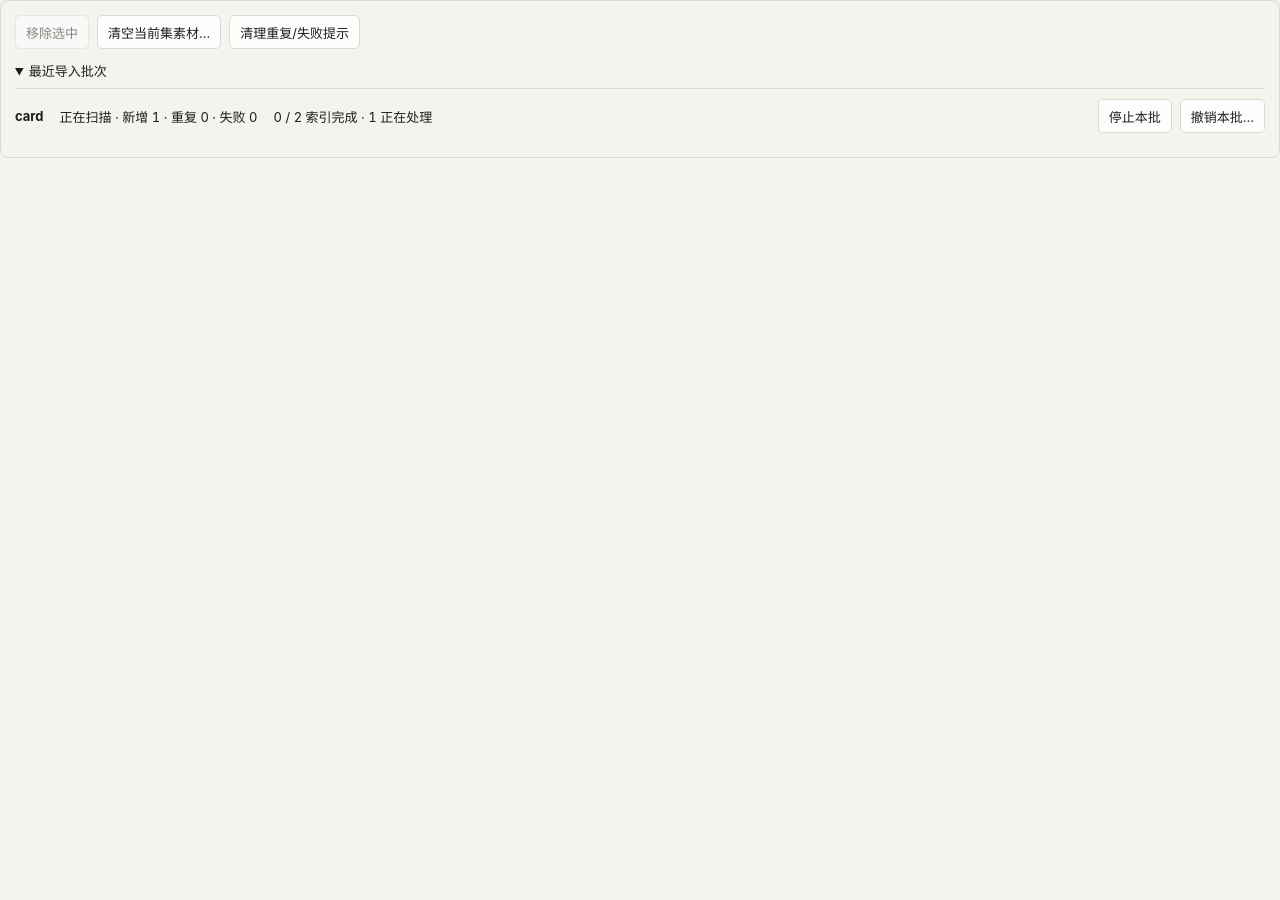
Test case: undo targets only its batch and completes with actual removed count
Click the button "撤销本批…": [1222, 116] box [1180,99,1265,133]
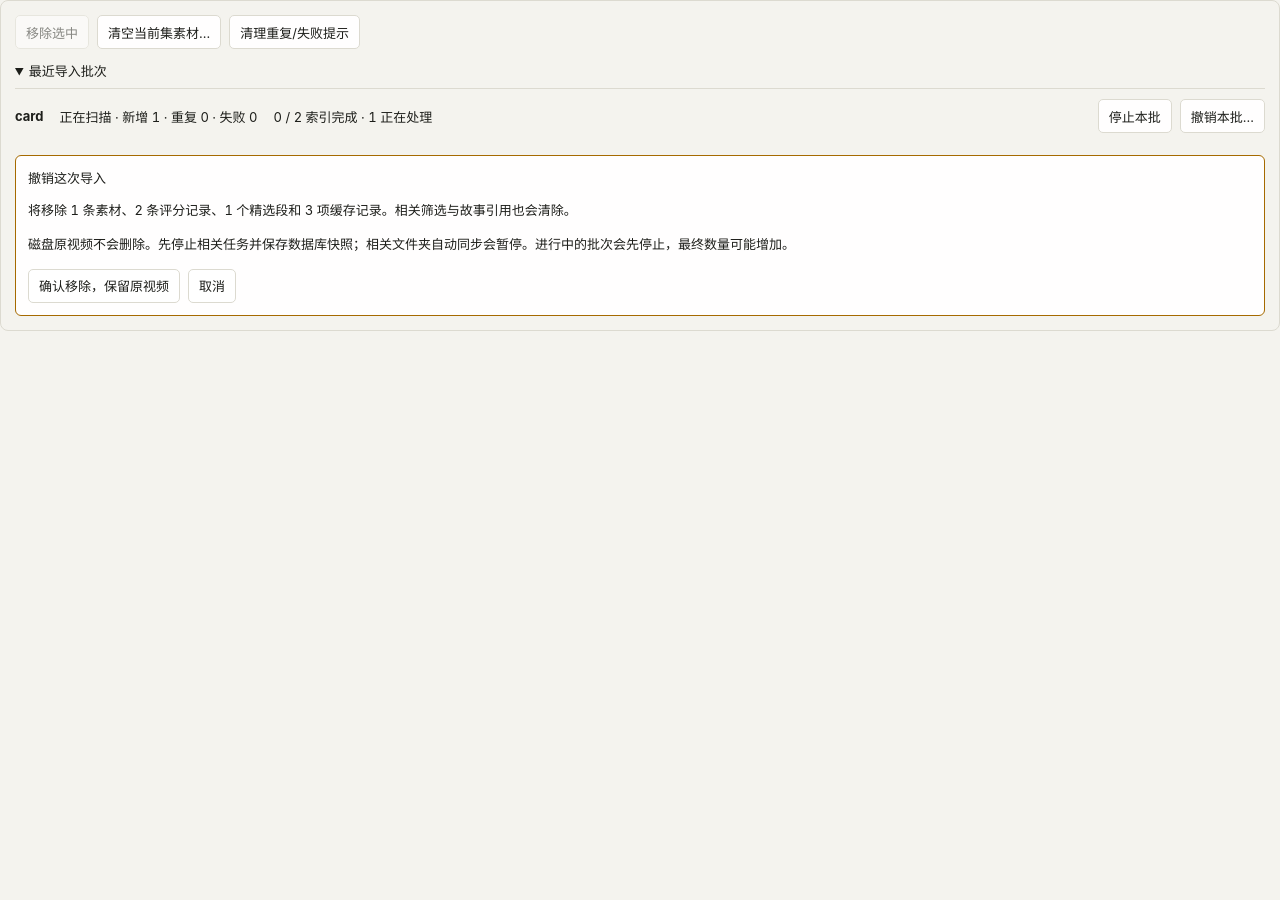
Expected: the button "确认移除，保留原视频" is shown
Click the button "确认移除，保留原视频": [104, 286] box [28,269,180,303]
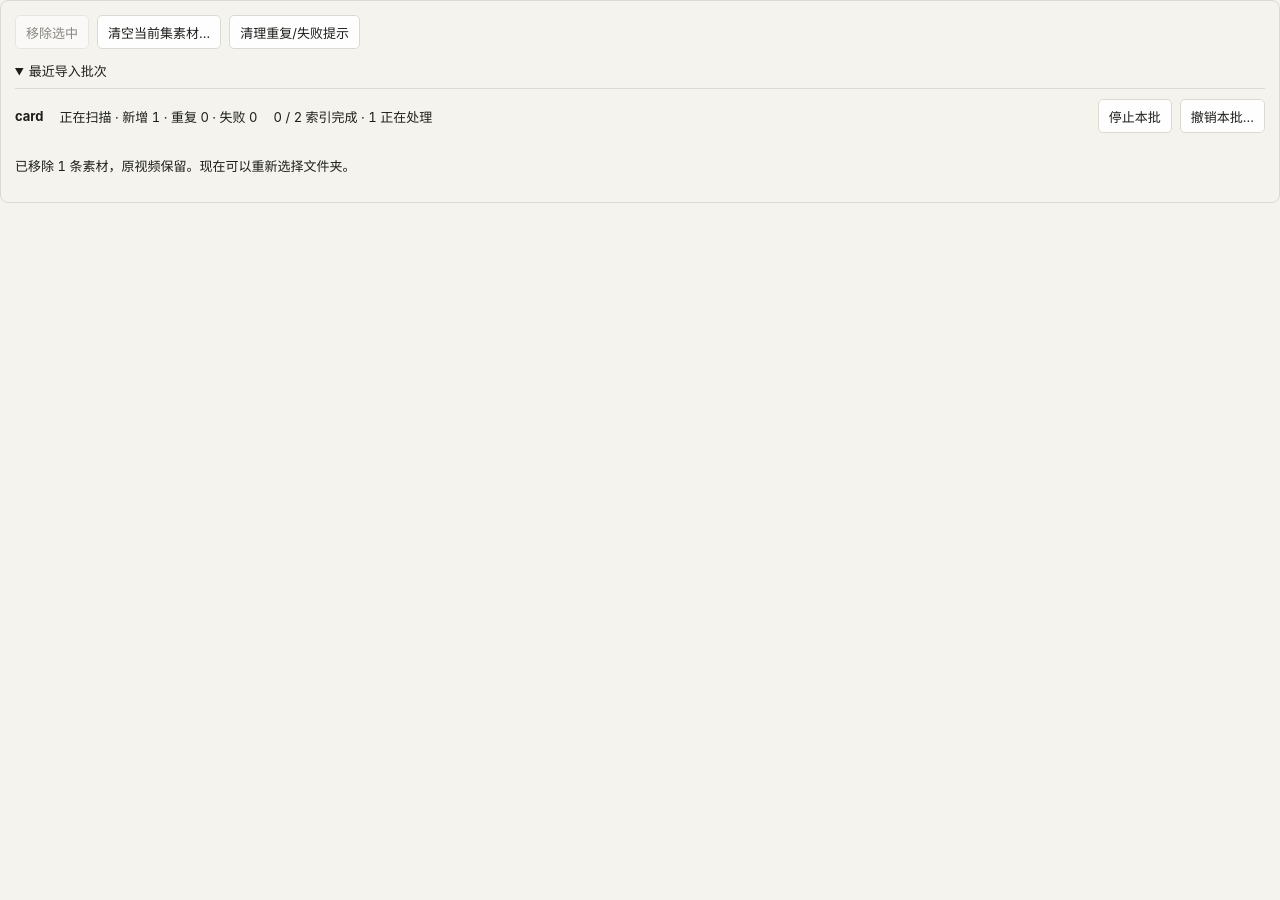
Expected: the text "已移除 1 条素材" is shown, [15,158,355,174]
